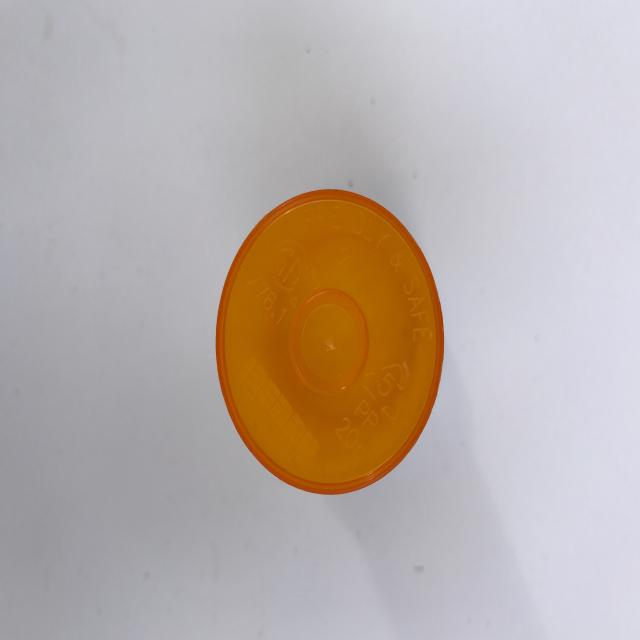plastic: (215, 188, 445, 495)
